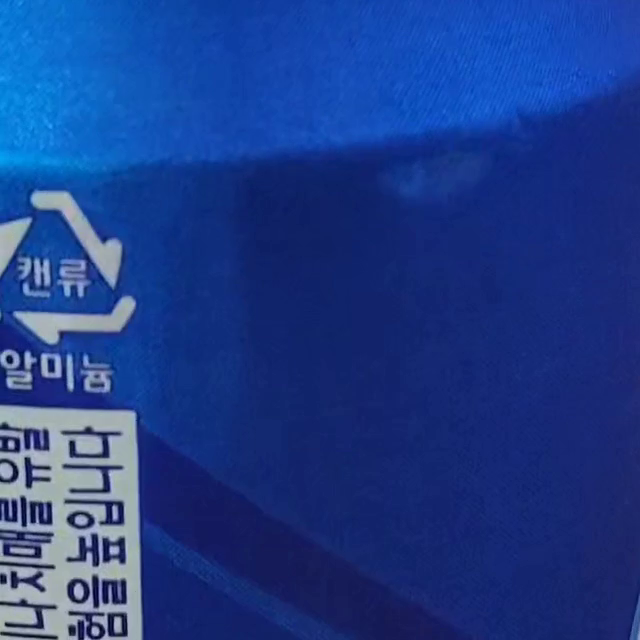Can: (0, 190, 132, 340)
